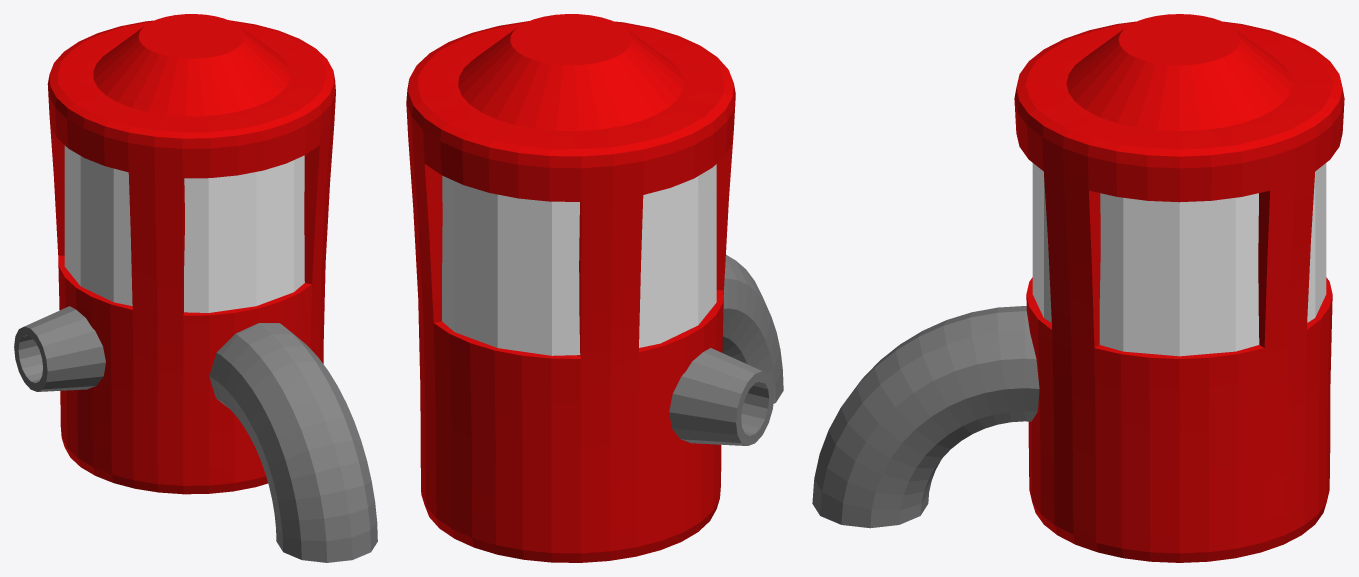
File: Stuffing Station.fbx
3 renders of one model, left to right at view 1: azimuth 30°, elevation 25°; view 2: azimuth 150°, elevation 25°; view 3: azimuth 270°, elevation 25°, orthographic. The views are drawn at different scales.
Parts seen in each view (by area): view 1: Stuffing Machine Main, Stuffing Machine Glass, Stuffing Machine Pipe, Stuffing Machine Cap, Stuffing Machine Nozzle; view 2: Stuffing Machine Main, Stuffing Machine Glass, Stuffing Machine Cap, Stuffing Machine Nozzle, Stuffing Machine Pipe; view 3: Stuffing Machine Main, Stuffing Machine Pipe, Stuffing Machine Glass, Stuffing Machine Cap.
Boxes of the visible parts, x1,y1,x2,y2 form: Stuffing Machine Main: (47,20,335,494); Stuffing Machine Glass: (64,145,304,312); Stuffing Machine Pipe: (209,323,377,562); Stuffing Machine Cap: (93,14,290,116); Stuffing Machine Nozzle: (14,306,105,391); Stuffing Machine Main: (406,21,735,562); Stuffing Machine Glass: (442,164,716,355); Stuffing Machine Cap: (458,14,683,130); Stuffing Machine Nozzle: (669,348,774,445); Stuffing Machine Pipe: (722,255,783,403); Stuffing Machine Main: (1014,21,1344,562); Stuffing Machine Pipe: (812,306,1039,528); Stuffing Machine Glass: (1032,163,1326,356); Stuffing Machine Cap: (1066,14,1292,131).
Bounding box in the file's own units: 489 × 664 × 689.
